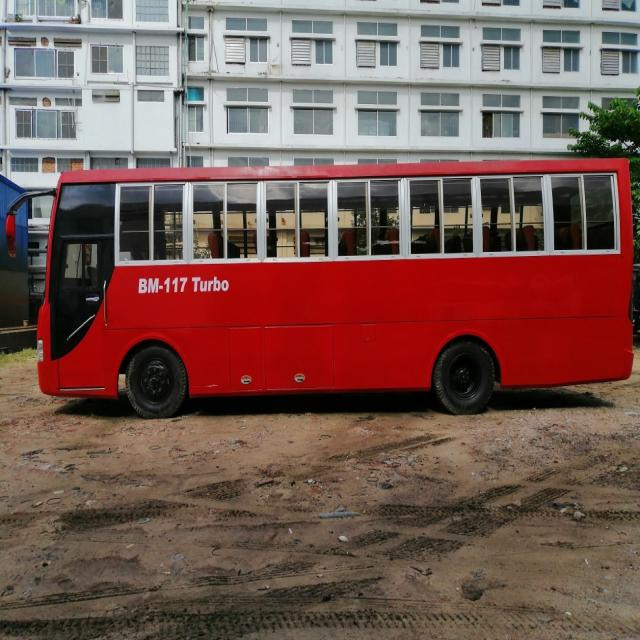bus: (0, 147, 640, 460)
